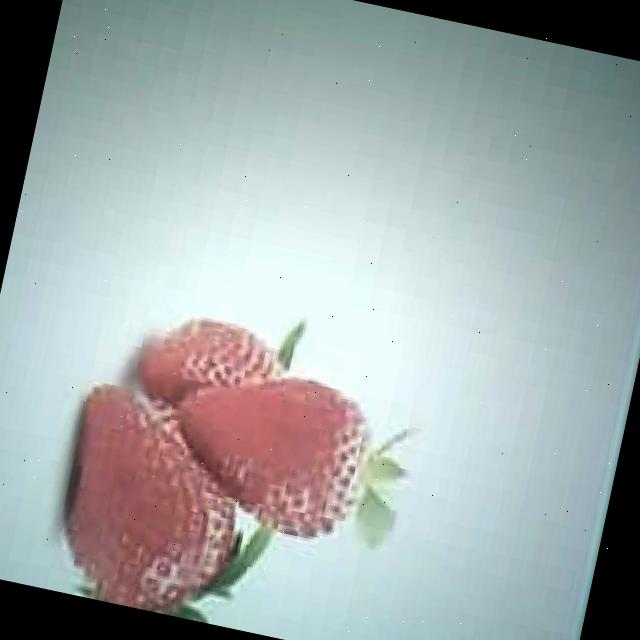strawberry: (48, 384, 260, 624), (162, 354, 379, 548)
